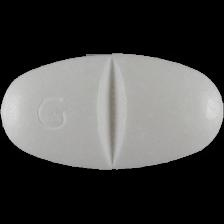59762-5024: (0, 0, 224, 224)
